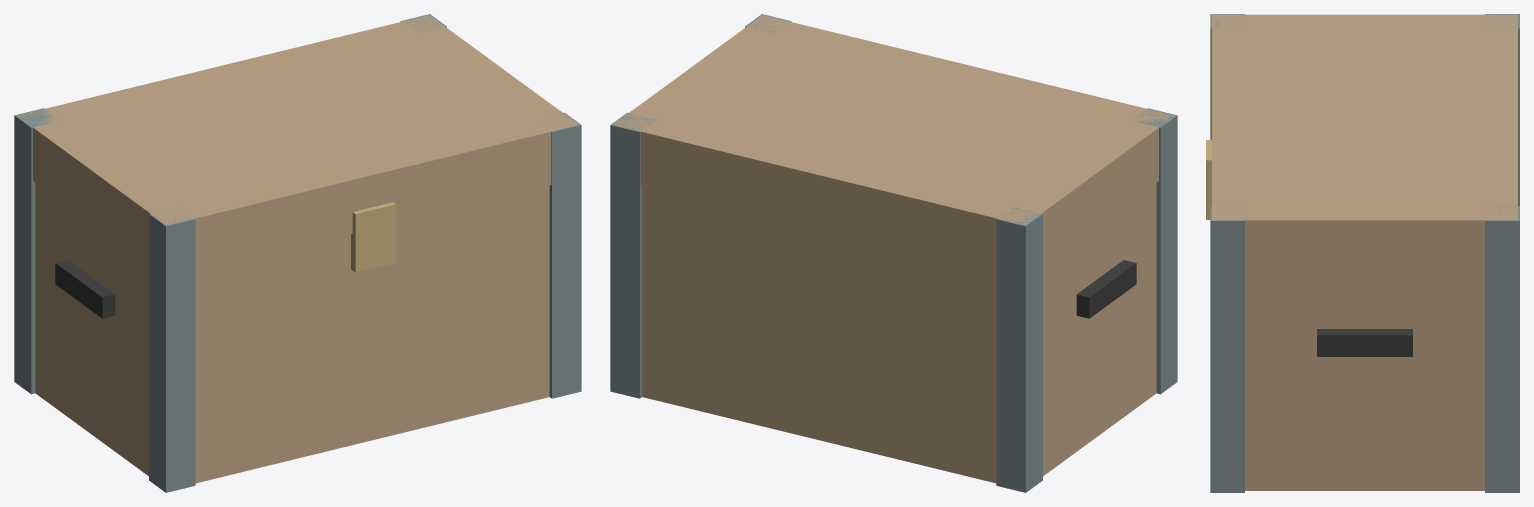
The model's file is furn_footlocker.fbx.
3 views of the same model, side by side, from view 1: azimuth 30°, elevation 25°; view 2: azimuth 150°, elevation 25°; view 3: azimuth 270°, elevation 25° (orthographic). The views are drawn at different scales.
Parts seen in each view (by area): view 1: furn_footlocker; view 2: furn_footlocker; view 3: furn_footlocker.
Part boxes in pixels (x1,y1,x2,y2): furn_footlocker: (14, 14, 581, 492); furn_footlocker: (610, 14, 1177, 492); furn_footlocker: (1206, 14, 1519, 492).
Bounding box in the file's own units: 0.86 × 0.5 × 0.523.
